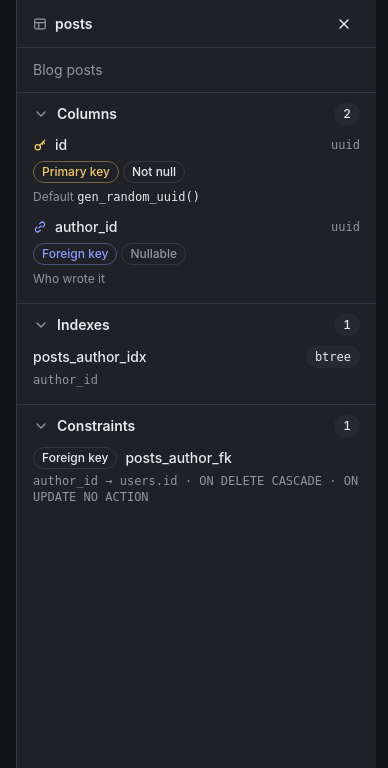
Scenario: TableDetailPanel › folds a section away and back
This screenshot has width=388, height=768.
Click the button "Columns 2" at {"x": 87, "y": 114}, box [17,93,376,135]
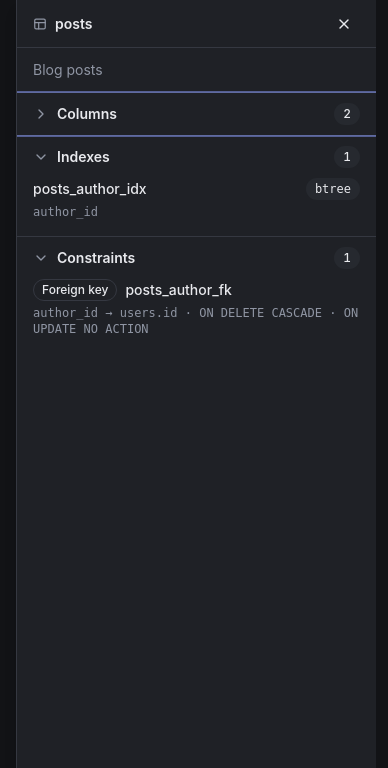
Expected: the text "Who wrote it" is gone
Click the button "Columns 2" at {"x": 87, "y": 114}, box [17,93,376,135]
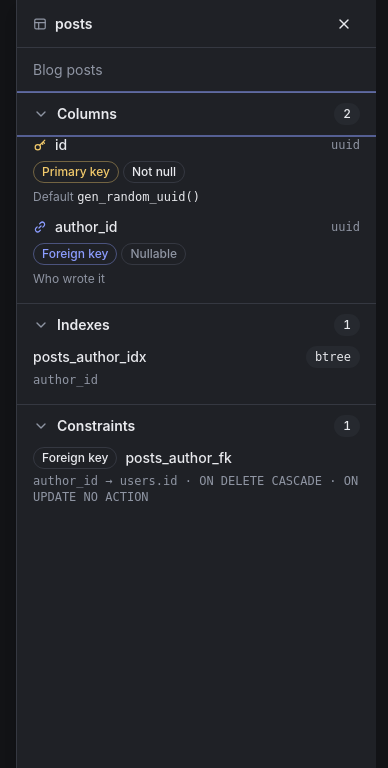
Expected: the text "Who wrote it" is shown, [33,271,105,286]
